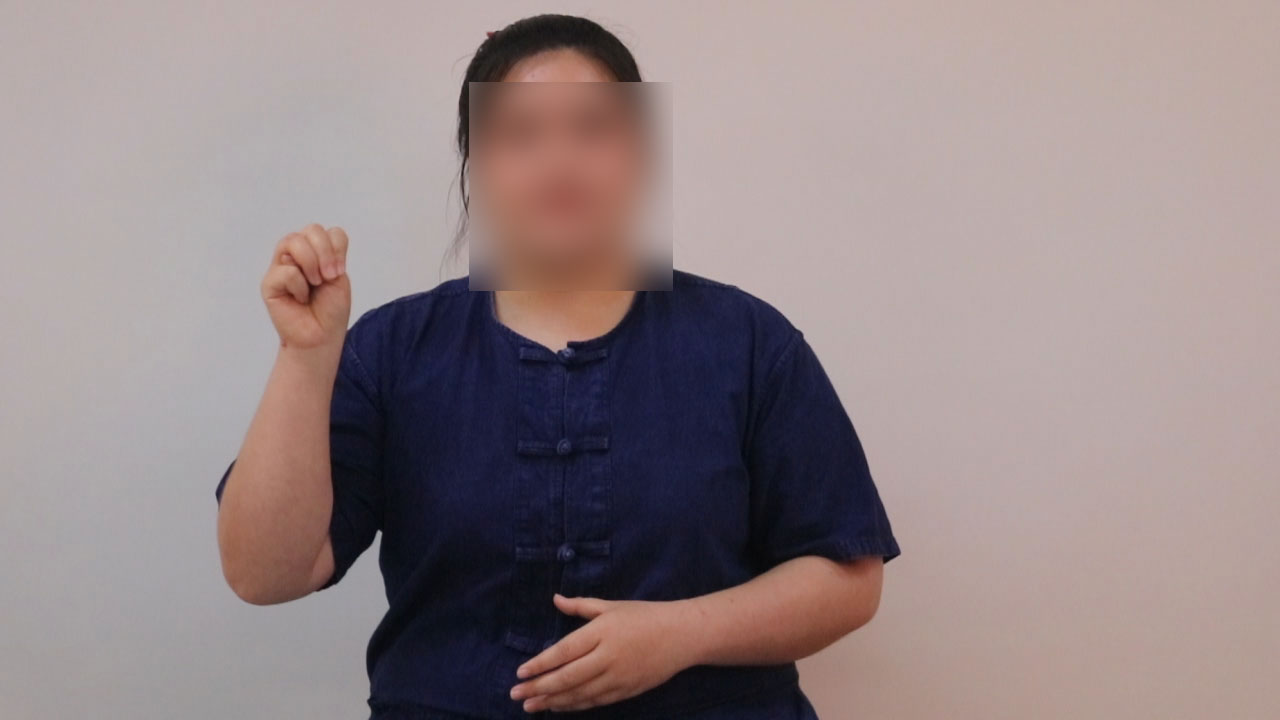mor: (251, 208, 364, 360)
